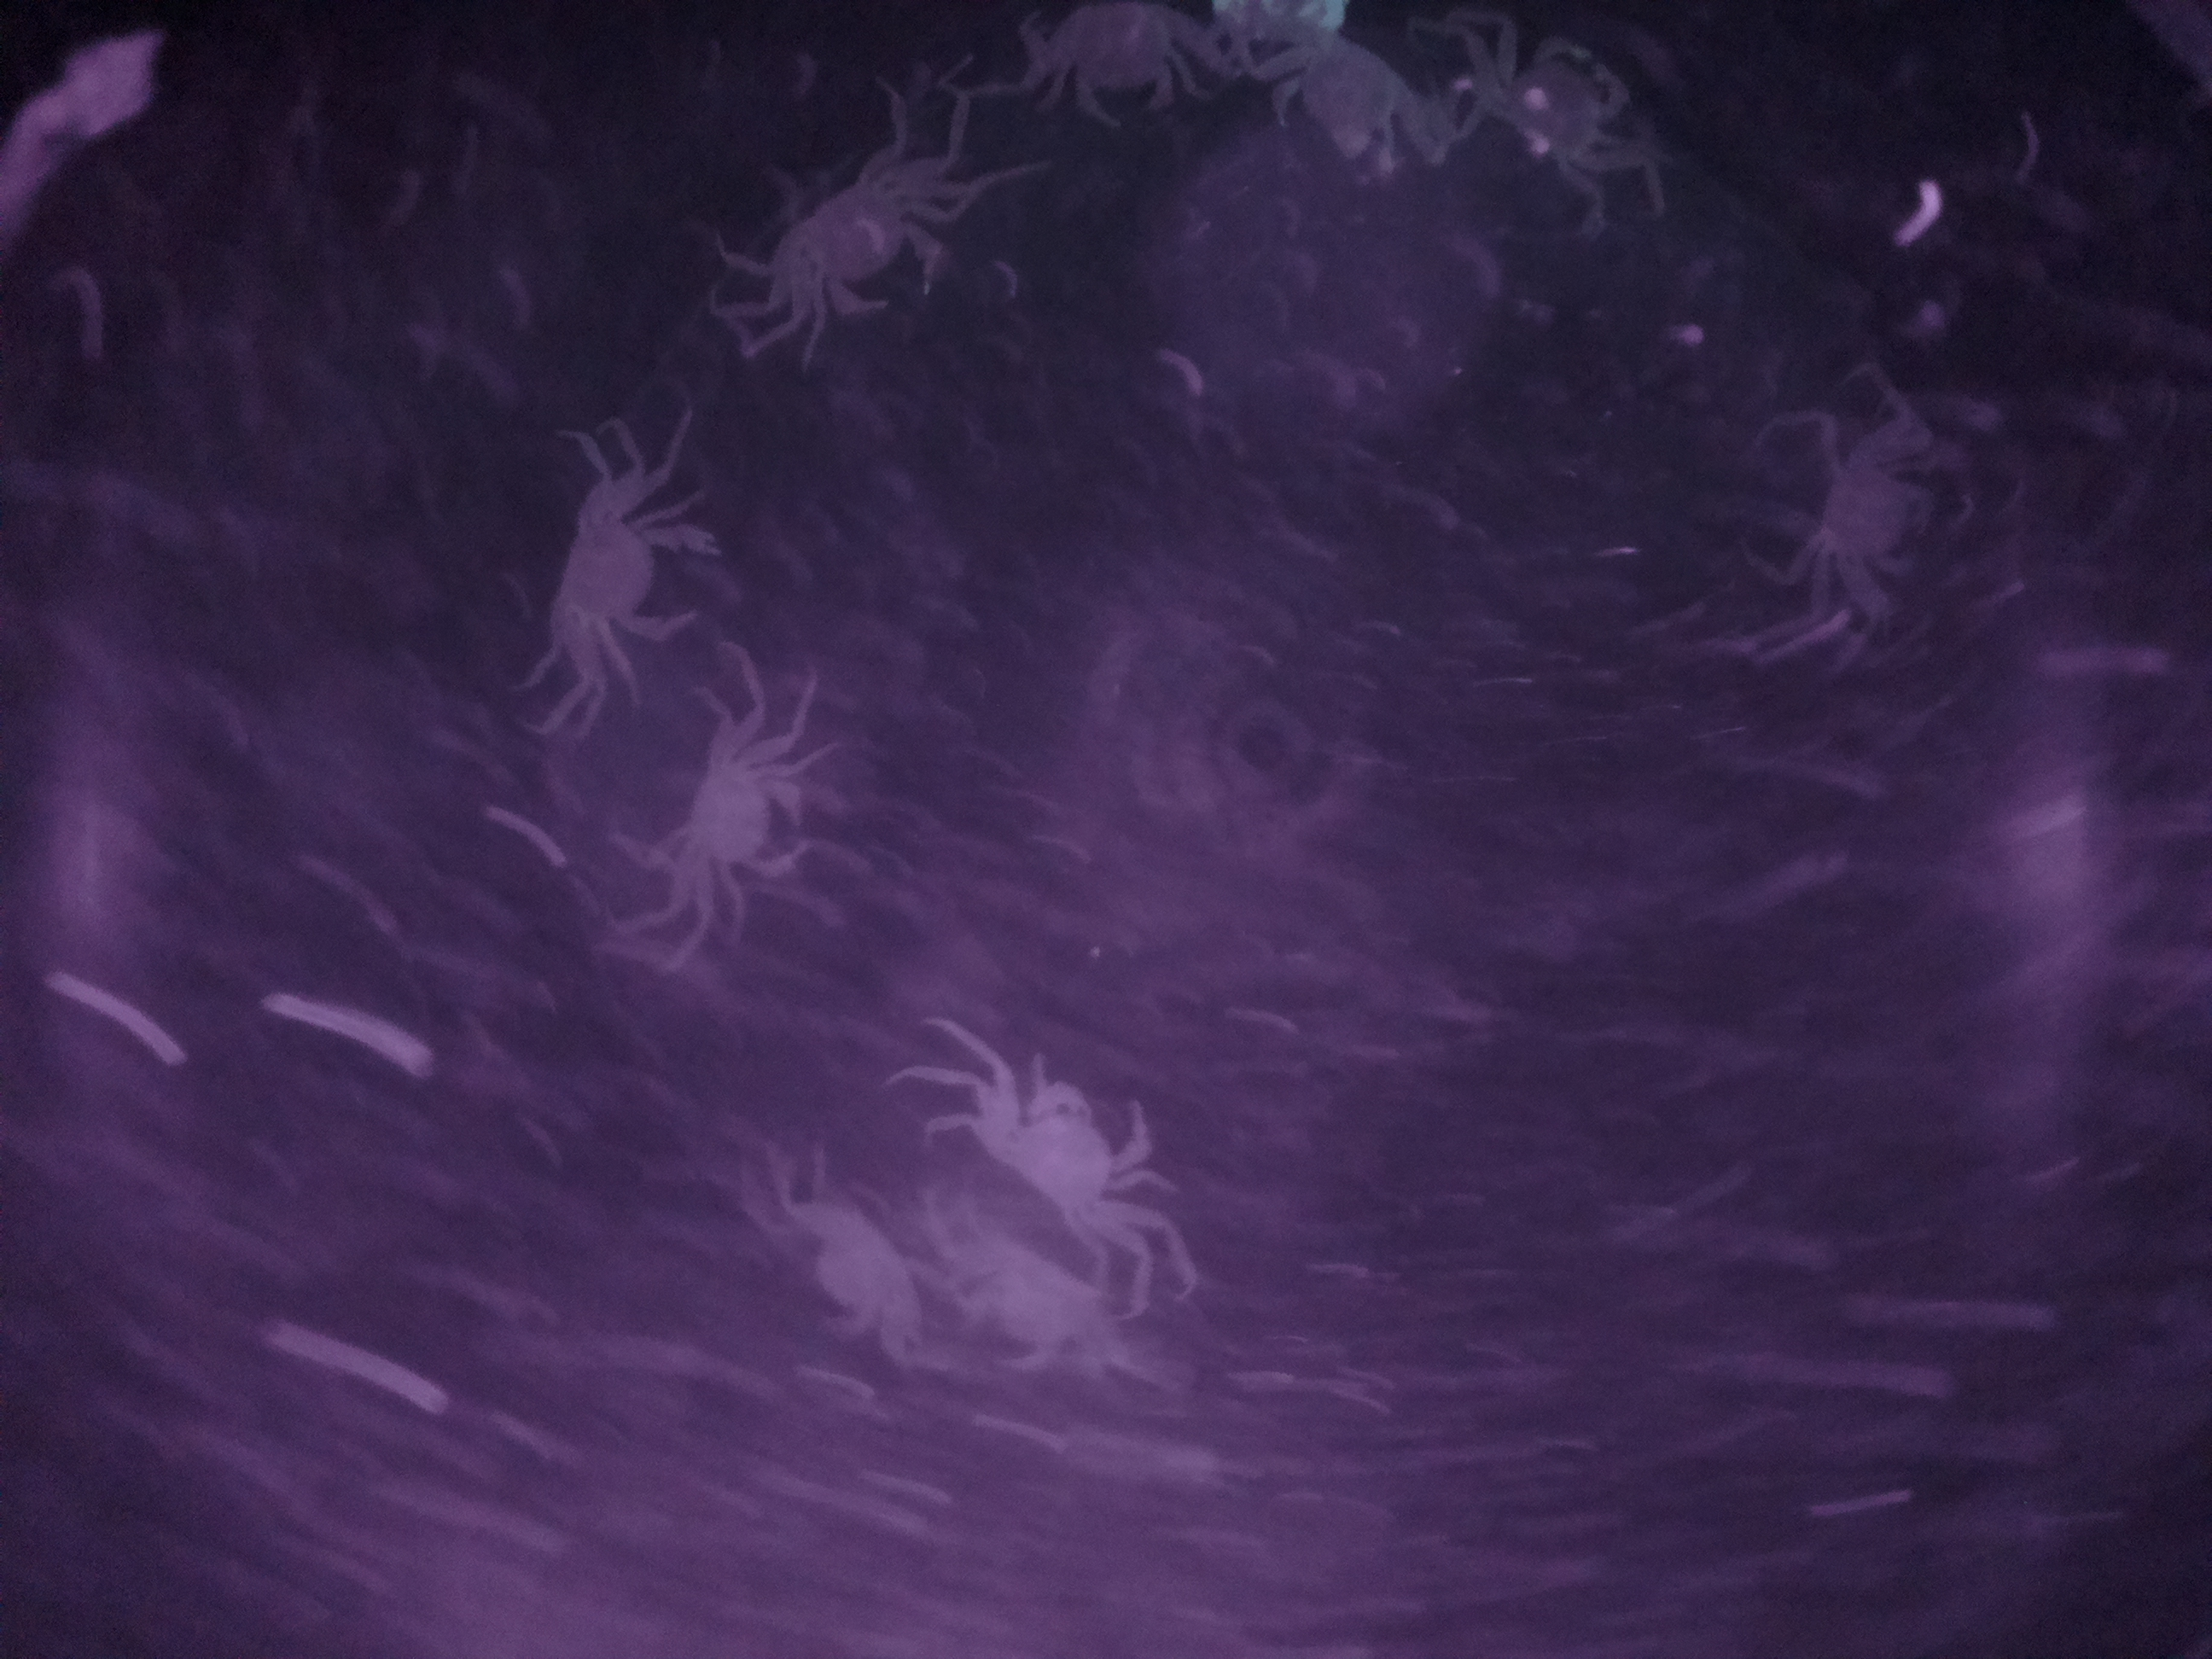Crab: (751, 131, 961, 357), (1778, 380, 1949, 648), (967, 1046, 1172, 1256), (540, 476, 723, 678), (662, 708, 824, 922)
